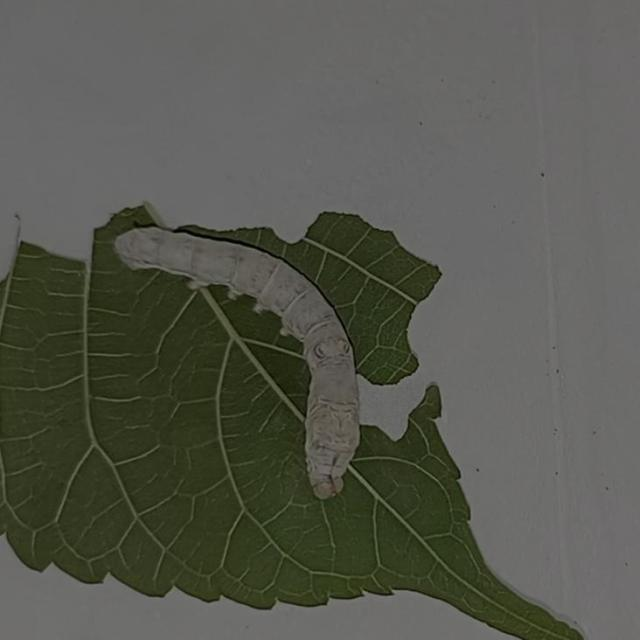Healthy: (114, 217, 377, 511)
